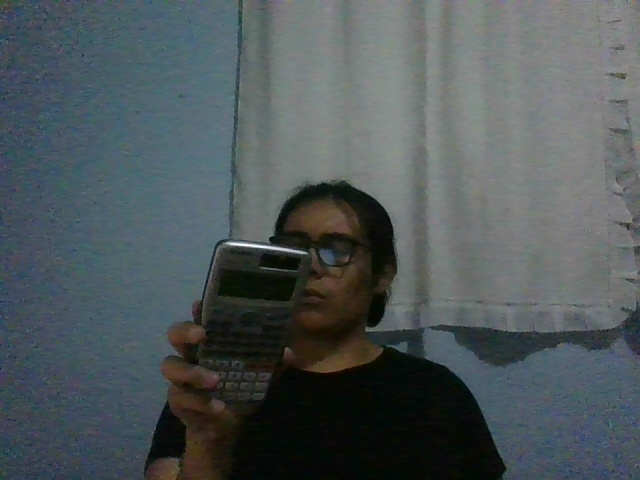calculadora: (190, 239, 312, 403)
